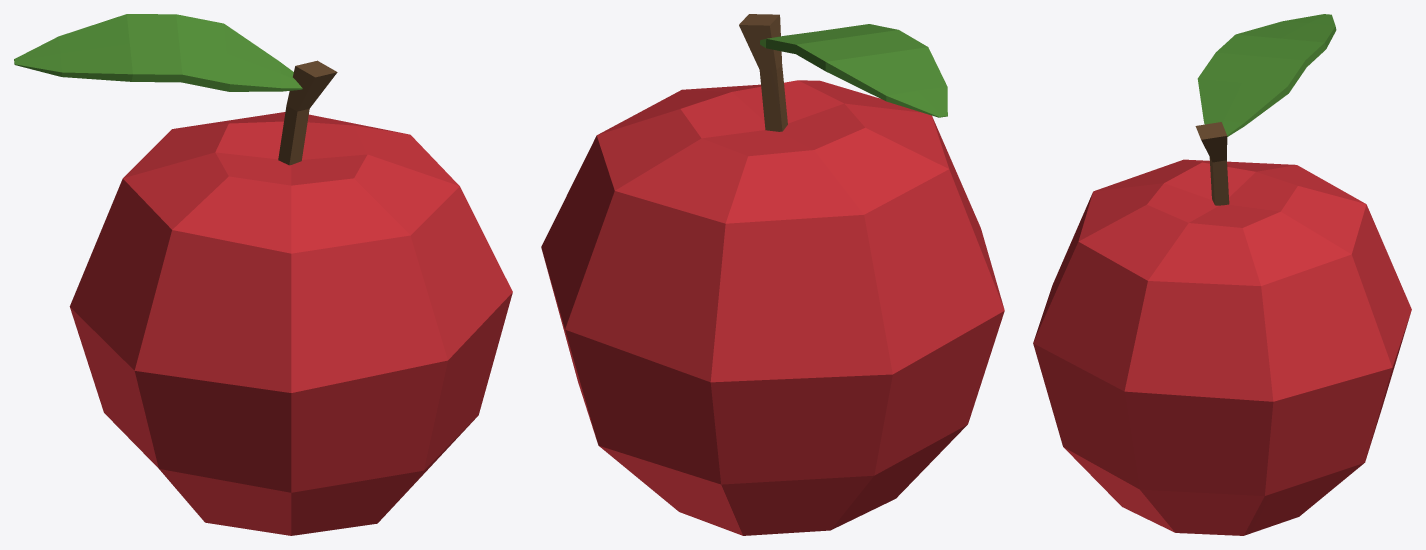
The model's file is apple_interactable.fbx.
3 views of the same model, side by side, from view 1: azimuth 30°, elevation 25°; view 2: azimuth 150°, elevation 25°; view 3: azimuth 270°, elevation 25° (orthographic). The views are drawn at different scales.
Parts seen in each view (by area): view 1: apple_interactable; view 2: apple_interactable; view 3: apple_interactable.
Boxes of the visible parts, <box> form: apple_interactable: <box>14,14,512,535</box>; apple_interactable: <box>541,14,1004,535</box>; apple_interactable: <box>1033,14,1411,535</box>.
Size of the model in its own units: 58.33 by 65.83 by 53.49.
